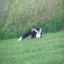skunk: (18, 27, 43, 39)
